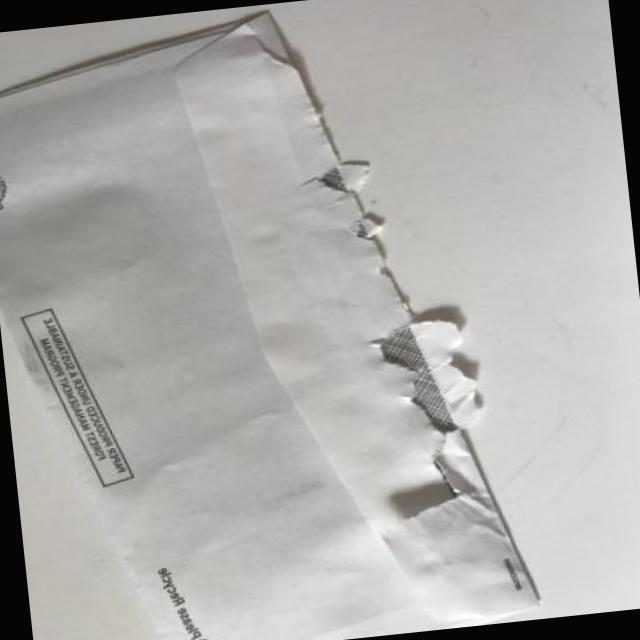paper: (0, 24, 578, 640)
